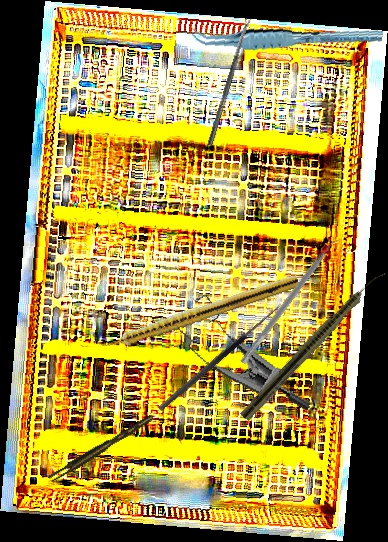Handpiece: (239, 265, 388, 424), (95, 270, 301, 356)
Hook Surgical: (152, 296, 284, 413)
Spatula Surgical: (239, 232, 345, 370)
Speculum: (159, 286, 333, 414)
Surgical Spoon: (207, 17, 252, 147)
Tissue Forceps: (190, 9, 384, 65), (44, 414, 158, 484)
